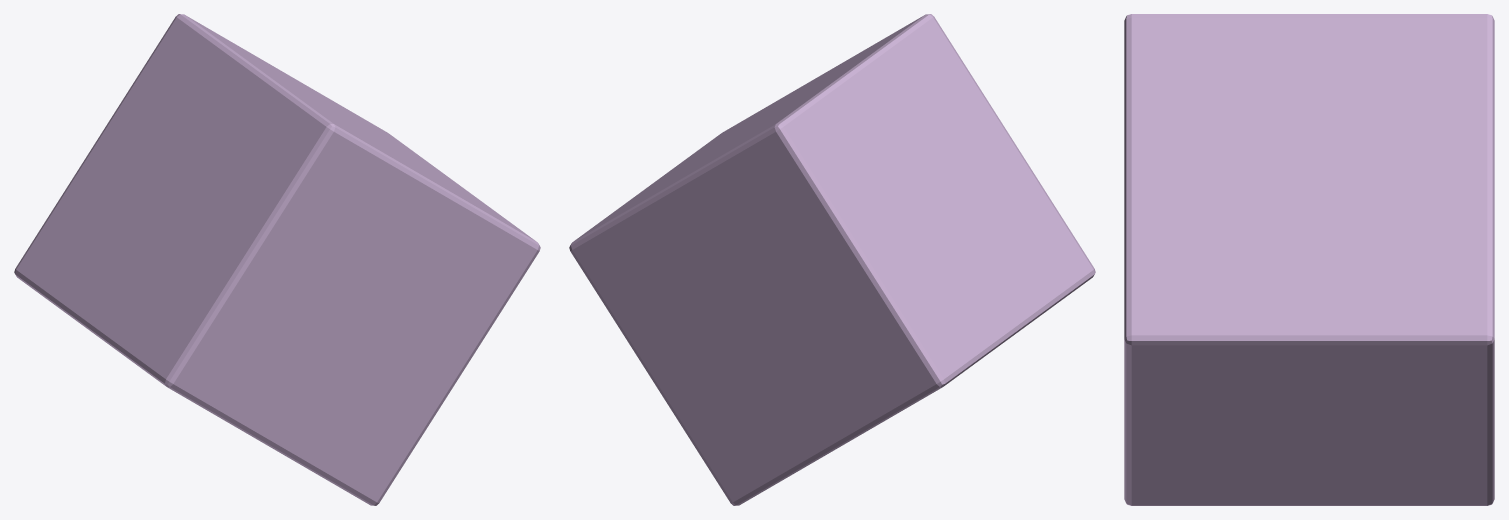
File: cube_stripe_purple.glb
The picture shows the model from 3 angles, left to right: view 1: azimuth 30°, elevation 25°; view 2: azimuth 150°, elevation 25°; view 3: azimuth 270°, elevation 25°; orthographic projection. The views are drawn at different scales.
Visible parts, largest first — view 1: cube_stripe_purple; view 2: cube_stripe_purple; view 3: cube_stripe_purple.
Boxes of the visible parts, <box> form: cube_stripe_purple: <box>14,14,540,505</box>; cube_stripe_purple: <box>569,14,1095,505</box>; cube_stripe_purple: <box>1124,14,1494,505</box>.
Size of the model in its own units: 0.5552 by 0.5552 by 0.4.
